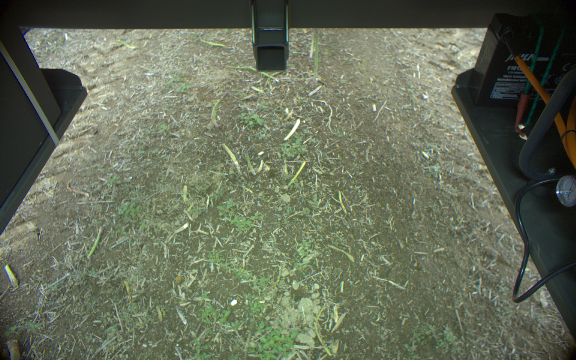aspa: (309, 26, 322, 86), (210, 90, 228, 130), (84, 225, 103, 260), (240, 146, 255, 176), (307, 28, 317, 59)
